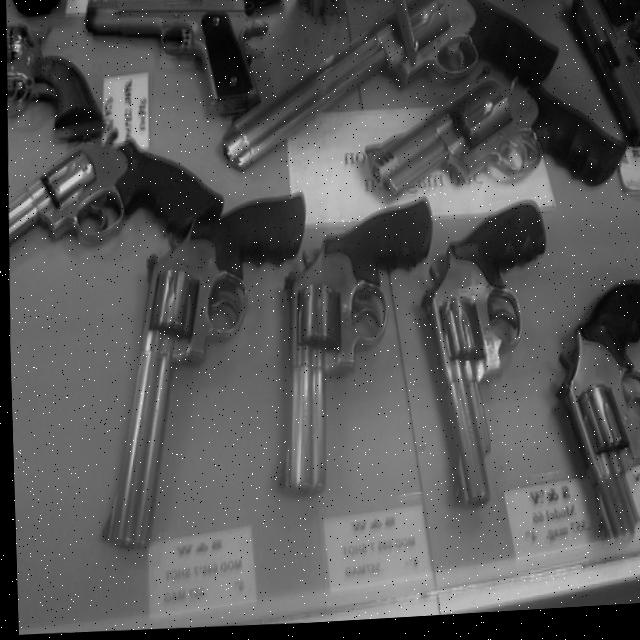pistol: (88, 189, 314, 560), (214, 0, 564, 184), (265, 195, 438, 502), (410, 200, 552, 518), (360, 58, 630, 208), (4, 119, 226, 259), (547, 282, 640, 555), (80, 0, 273, 131), (4, 17, 106, 147), (566, 0, 640, 157)
